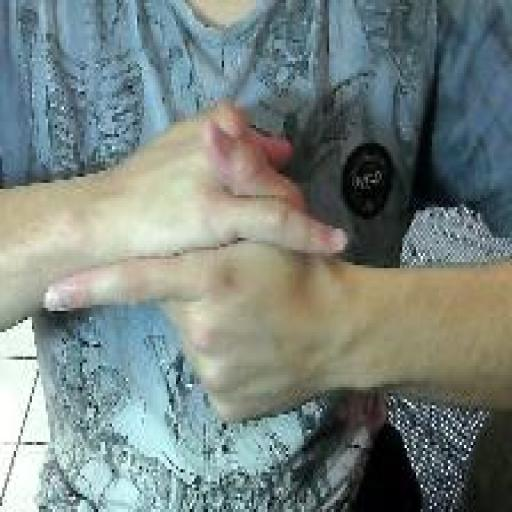U -hare-: (42, 96, 351, 434)
